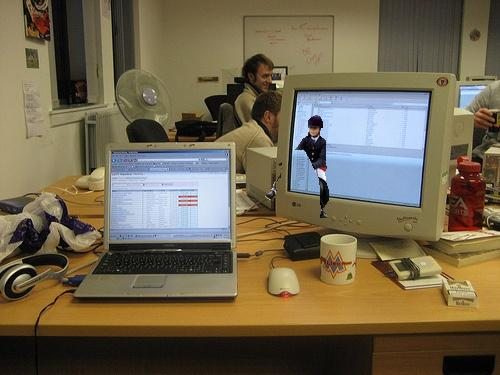tampered: (266, 116, 329, 218)
